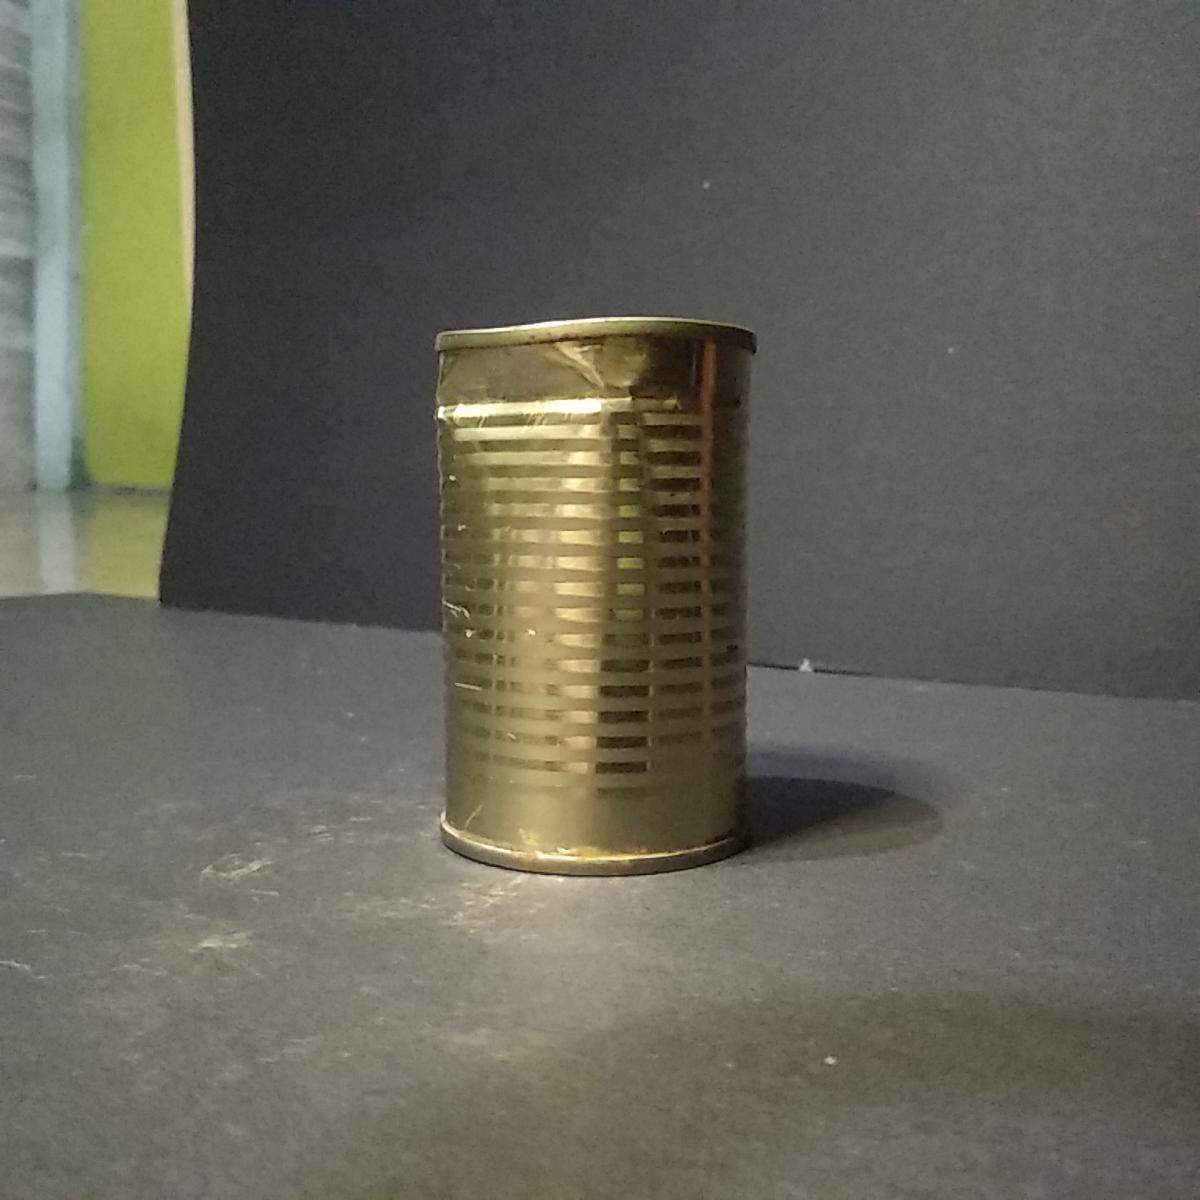Dented: (426, 298, 768, 874)
